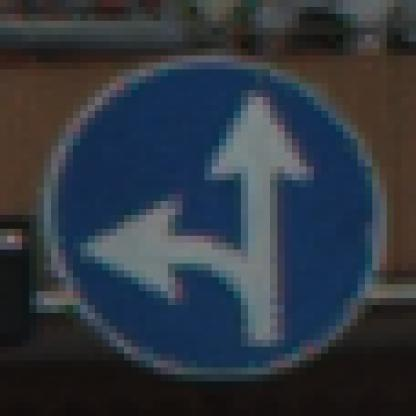Straight or Left: (38, 36, 381, 375)
